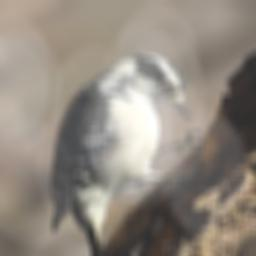Woodpecker: (32, 51, 219, 256)
